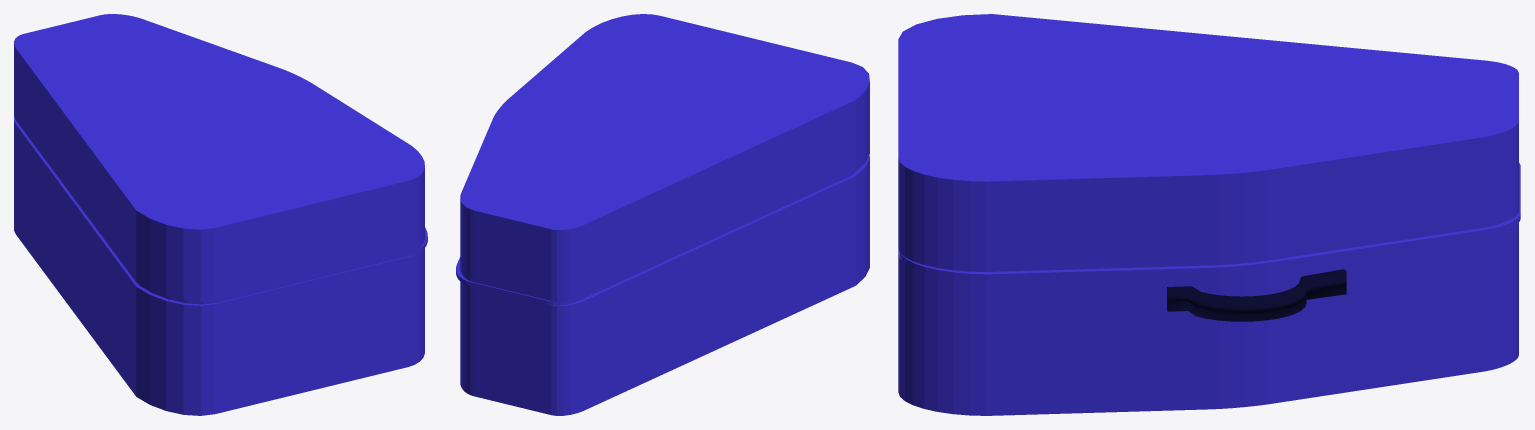
The model's file is Violin_Case.fbx.
The picture shows the model from 3 angles, left to right: view 1: azimuth 30°, elevation 25°; view 2: azimuth 150°, elevation 25°; view 3: azimuth 270°, elevation 25°; orthographic projection. The views are drawn at different scales.
Visible parts, largest first — view 1: Case; view 2: Case; view 3: Case, Handle.
Part boxes in pixels (box(x1,y1,x2,y2)): Case: box(14, 14, 427, 415); Case: box(456, 14, 869, 415); Case: box(898, 14, 1520, 415); Handle: box(1167, 269, 1346, 321).
Size of the model in its own units: 47.66 by 30 by 72.21.
